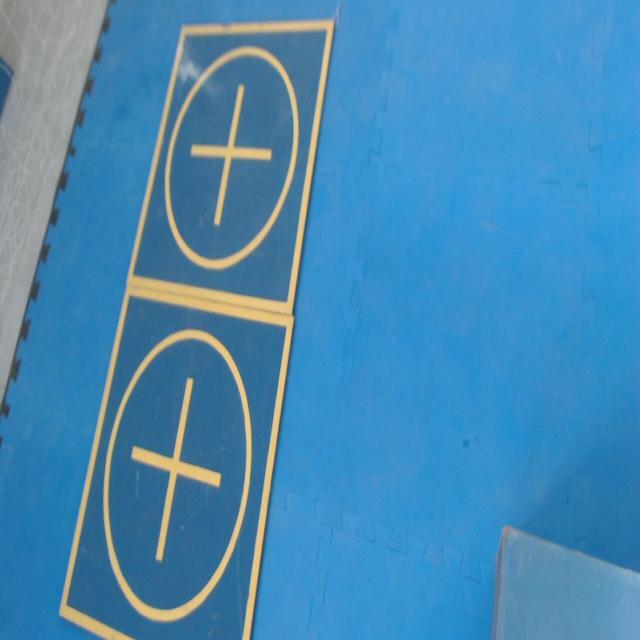base_pouso: (59, 290, 295, 639), (124, 20, 336, 315)
